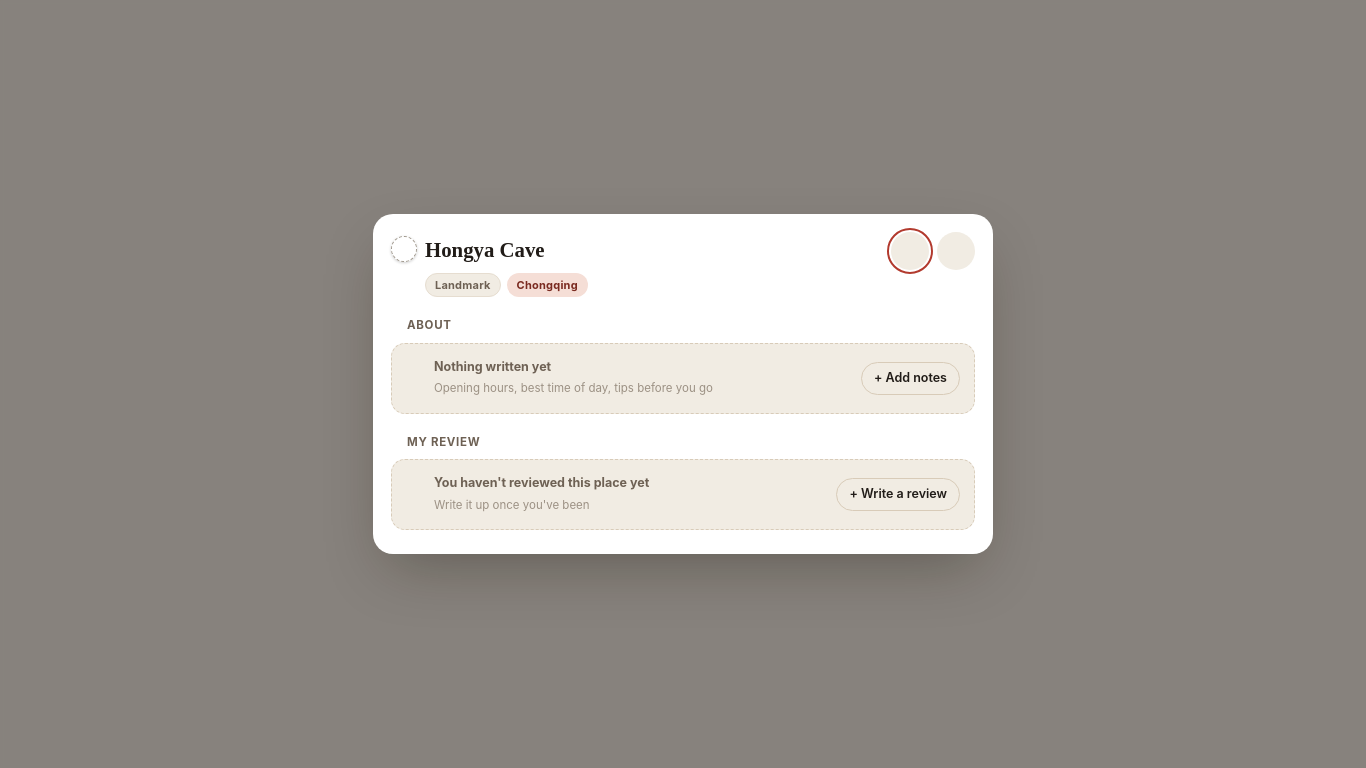
PlaceDetailModal — save › shows the merge-conflict banner when commitPlaceDraft reports an auto-resolved conflict
Click the button "+ Add notes".
click(910, 378)  # box [861,362,960,395]
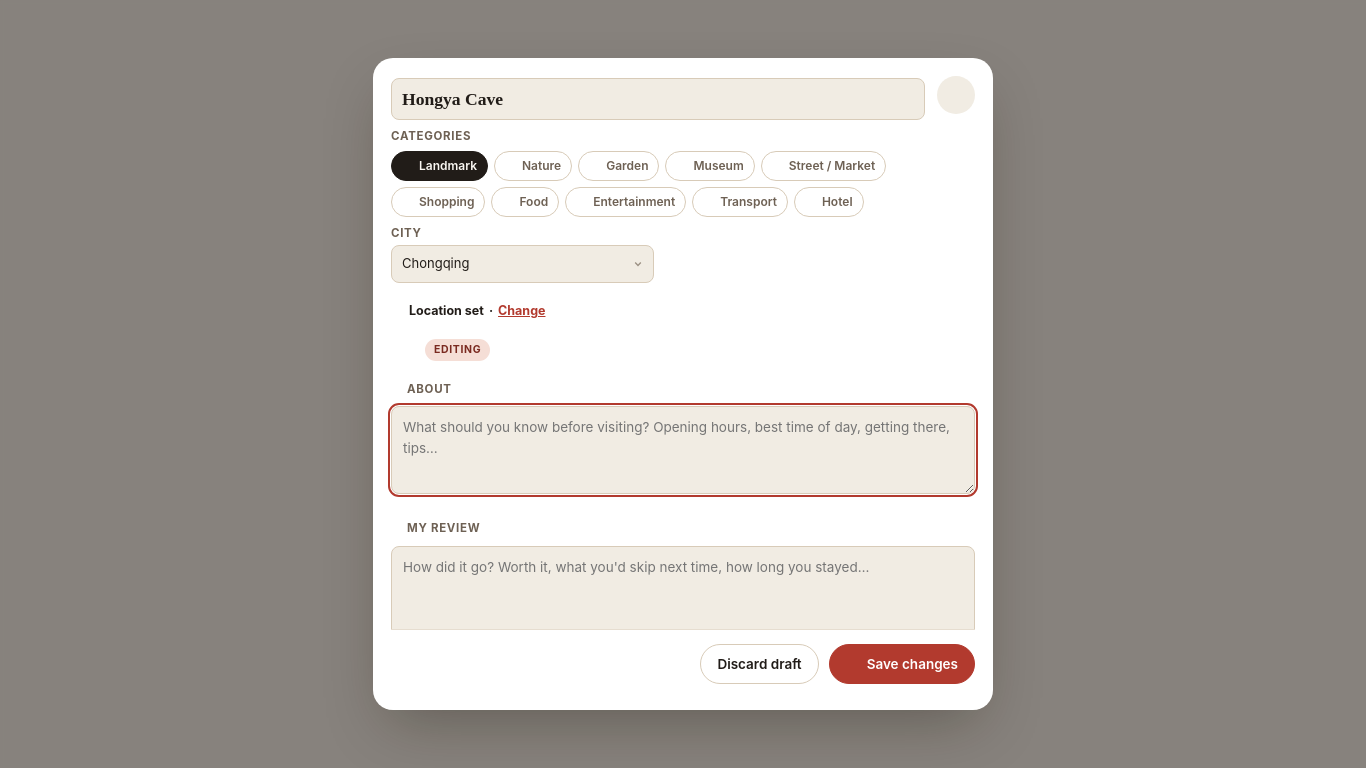
Replace the text in the text box with placeholder "What should you know before visiting" with "Some notes" at (683, 450), box [391,406,975,494]
Wait 500 ms
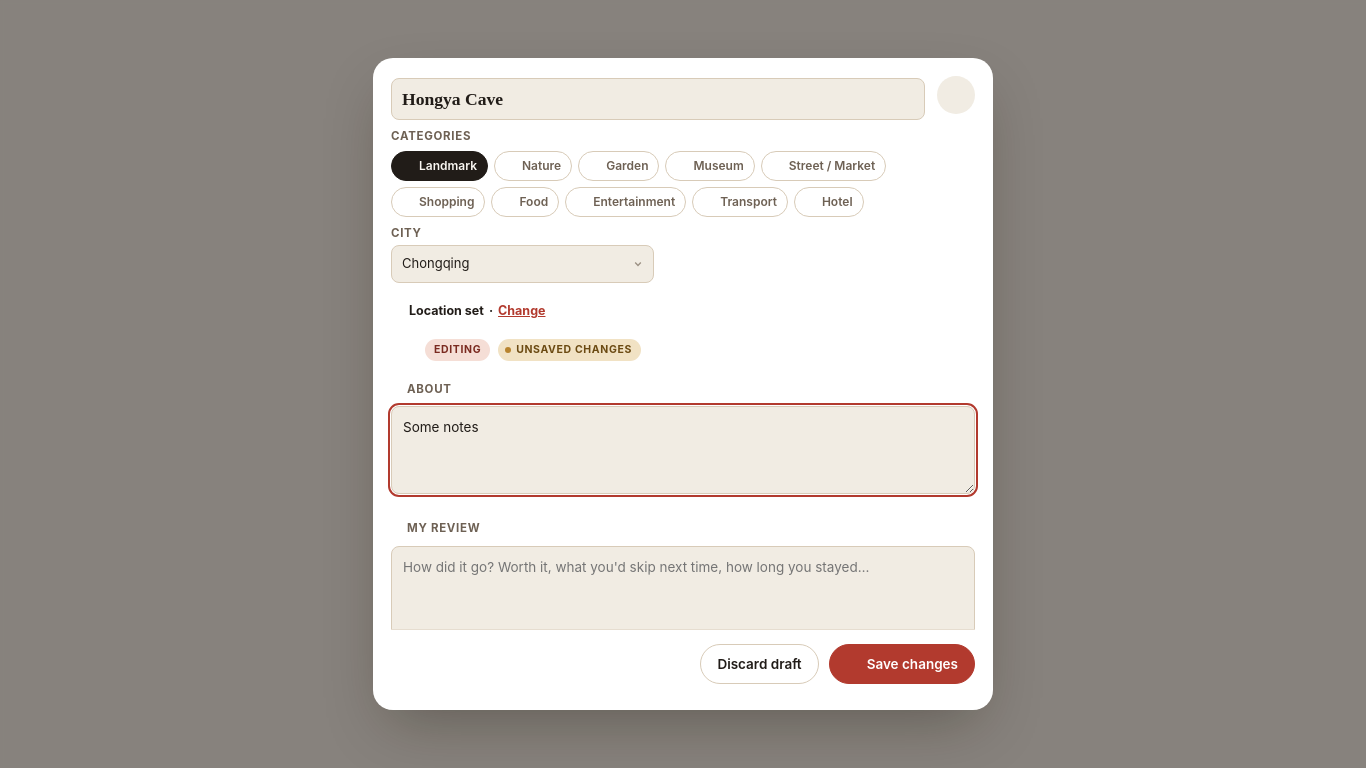
Click the button "Save changes".
click(902, 664)  # box [829,644,975,684]
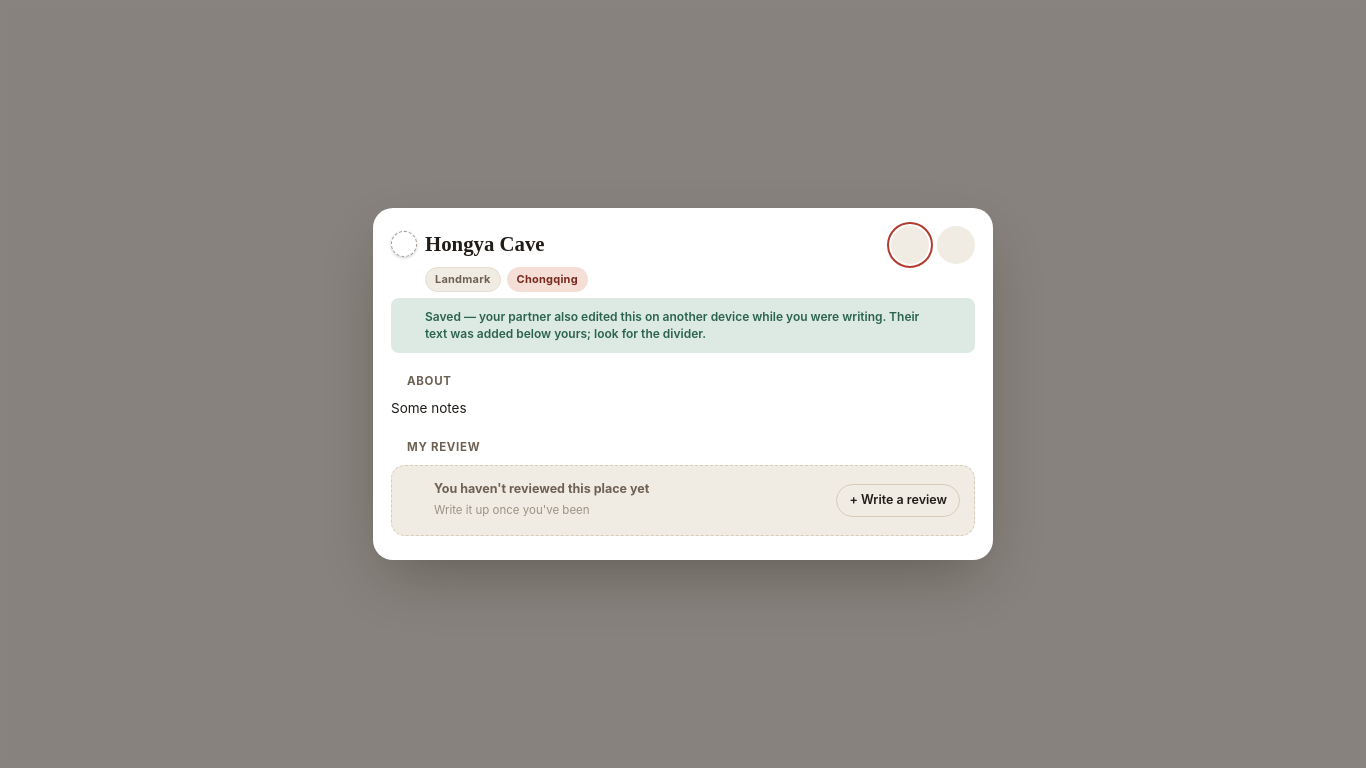
Expected: the text "your partner also edited this on another device" is shown, [425,309,919,341]
